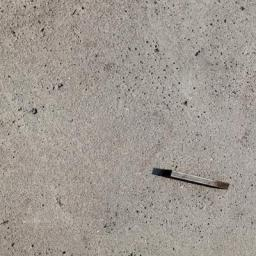FOD: (153, 162, 233, 196)
